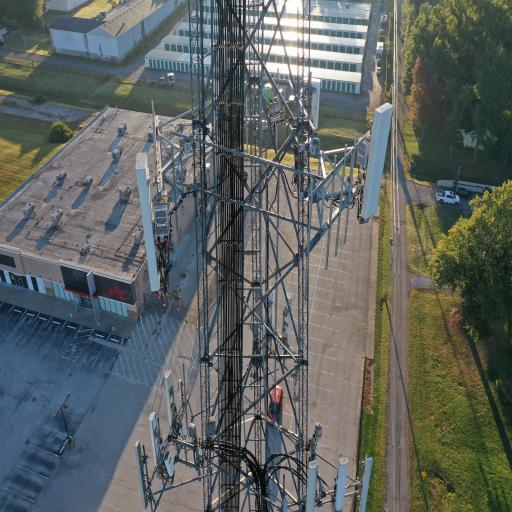supporting_tower: (116, 0, 415, 512)
